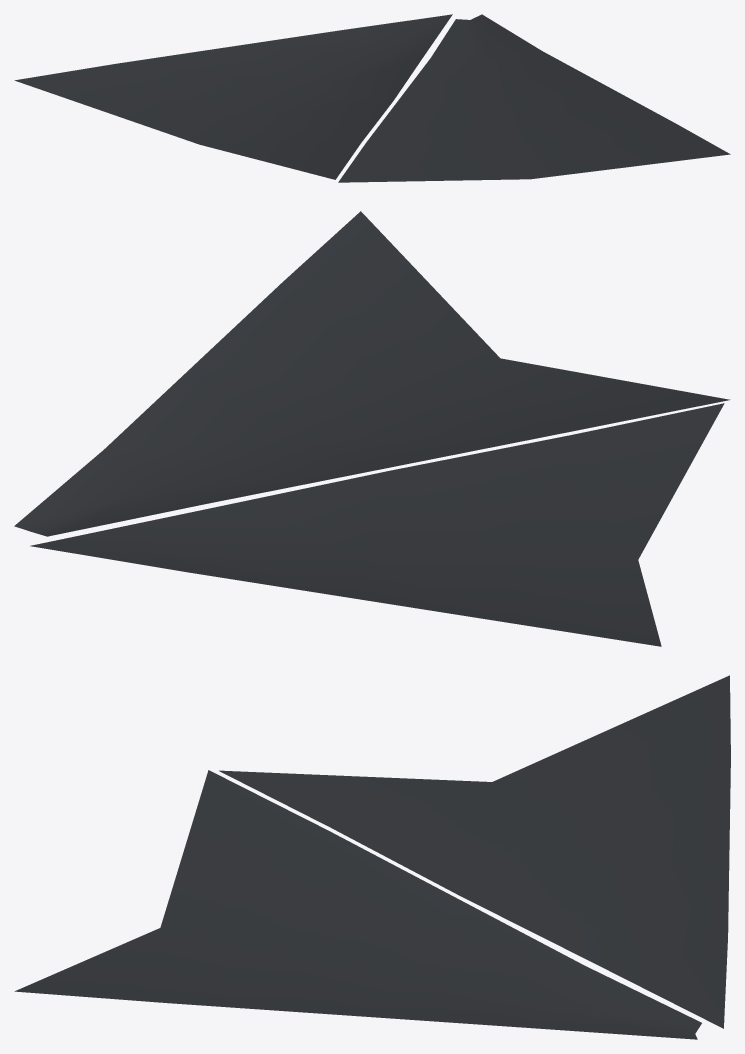
File: SM_Bld_Window_Net_Corner_01.glb
3 renders of one model, top to bottom at view 1: azimuth 30°, elevation 25°; view 2: azimuth 150°, elevation 25°; view 3: azimuth 270°, elevation 25°, orthographic. The views are drawn at different scales.
Visible parts, largest first — view 1: SM_Bld_Window_Net_Corner_01; view 2: SM_Bld_Window_Net_Corner_01; view 3: SM_Bld_Window_Net_Corner_01.
Part boxes in pixels (x1,y1,x2,y2): SM_Bld_Window_Net_Corner_01: [14, 14, 730, 182]; SM_Bld_Window_Net_Corner_01: [14, 211, 730, 646]; SM_Bld_Window_Net_Corner_01: [14, 675, 730, 1039].
Size of the model in its own units: 3.76 by 0.3026 by 3.61.
Materials: 1 (1 with a texture image).
